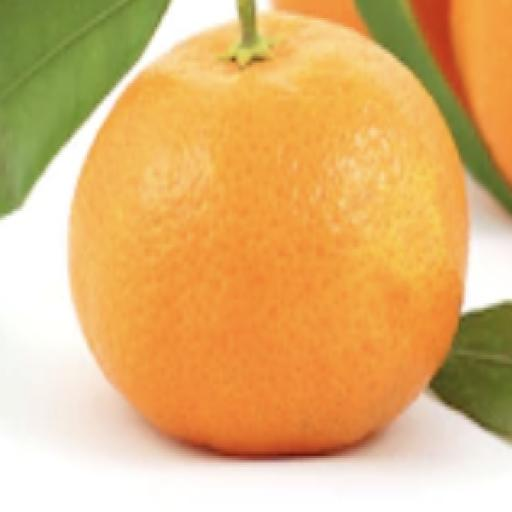orange: (70, 14, 467, 455)
